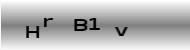1: (88, 17, 100, 31)
B: (72, 18, 88, 32)
H: (24, 24, 40, 39)
r: (42, 17, 54, 27)
v: (114, 25, 130, 37)
